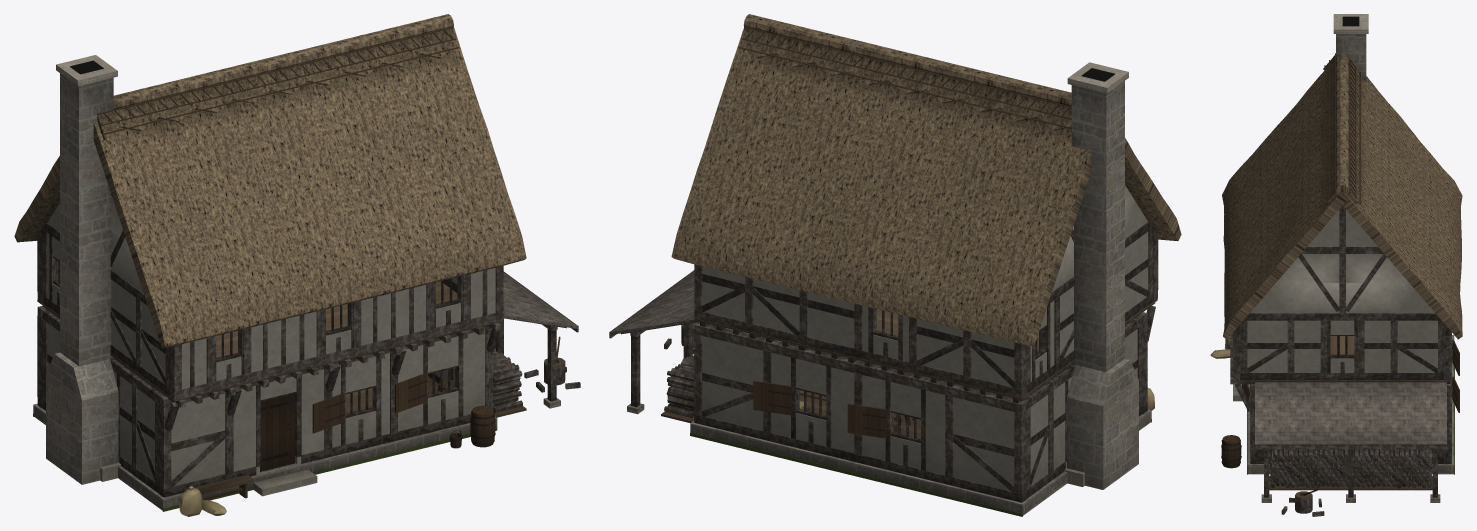
The model's file is timber-frame-house.glb.
The picture shows the model from 3 angles, left to right: view 1: azimuth 30°, elevation 25°; view 2: azimuth 150°, elevation 25°; view 3: azimuth 270°, elevation 25°; orthographic projection. The views are drawn at different scales.
Parts seen in each view (by area): view 1: body_thatch, body_oak, body_daub, body_stone, body_wood, body_plank, door_wood, body_dressed, body_shingle, shutter_1_wood, shutter_2_wood, body_sack (+1 smaller); view 2: body_thatch, body_oak, body_daub, body_stone, body_plank, body_wood, body_shingle, body_moss, body_dressed, shutter_3_wood, shutter_4_wood; view 3: body_thatch, body_oak, body_daub, body_shingle, body_wood, body_stone, body_plank, body_dressed.
Boxes of the visible parts, box(x1,y1,x2,y2) form: body_thatch: box(14, 14, 526, 348); body_oak: box(37, 194, 580, 497); body_daub: box(47, 196, 495, 486); body_stone: box(33, 73, 560, 510); body_wood: box(97, 27, 560, 448); body_plank: box(37, 281, 564, 500); door_wood: box(260, 393, 294, 471); body_dressed: box(56, 55, 317, 496); body_shingle: box(503, 272, 577, 328); shutter_1_wood: box(312, 393, 344, 433); shutter_2_wood: box(395, 373, 426, 413); body_sack: box(179, 486, 226, 516); body_thatch: box(671, 14, 1181, 346); body_oak: box(609, 206, 1158, 502); body_daub: box(702, 185, 1148, 491); body_stone: box(627, 81, 1151, 515); body_plank: box(661, 299, 1157, 438); body_wood: box(738, 27, 1071, 129); body_shingle: box(610, 271, 697, 334); body_moss: box(690, 419, 1151, 516); body_dressed: box(807, 62, 1128, 486); shutter_3_wood: box(753, 380, 792, 415); shutter_4_wood: box(847, 403, 886, 438); body_thatch: box(1222, 53, 1462, 339); body_oak: box(1230, 119, 1451, 516); body_daub: box(1247, 210, 1437, 456); body_shingle: box(1255, 382, 1446, 444); body_wood: box(1221, 53, 1360, 495); body_stone: box(1247, 34, 1454, 502); body_plank: box(1233, 336, 1451, 498); body_dressed: box(1233, 14, 1368, 401).
Bounding box in the file's own units: 13.1 × 10.44 × 7.48.
14 materials, 13 textured.
